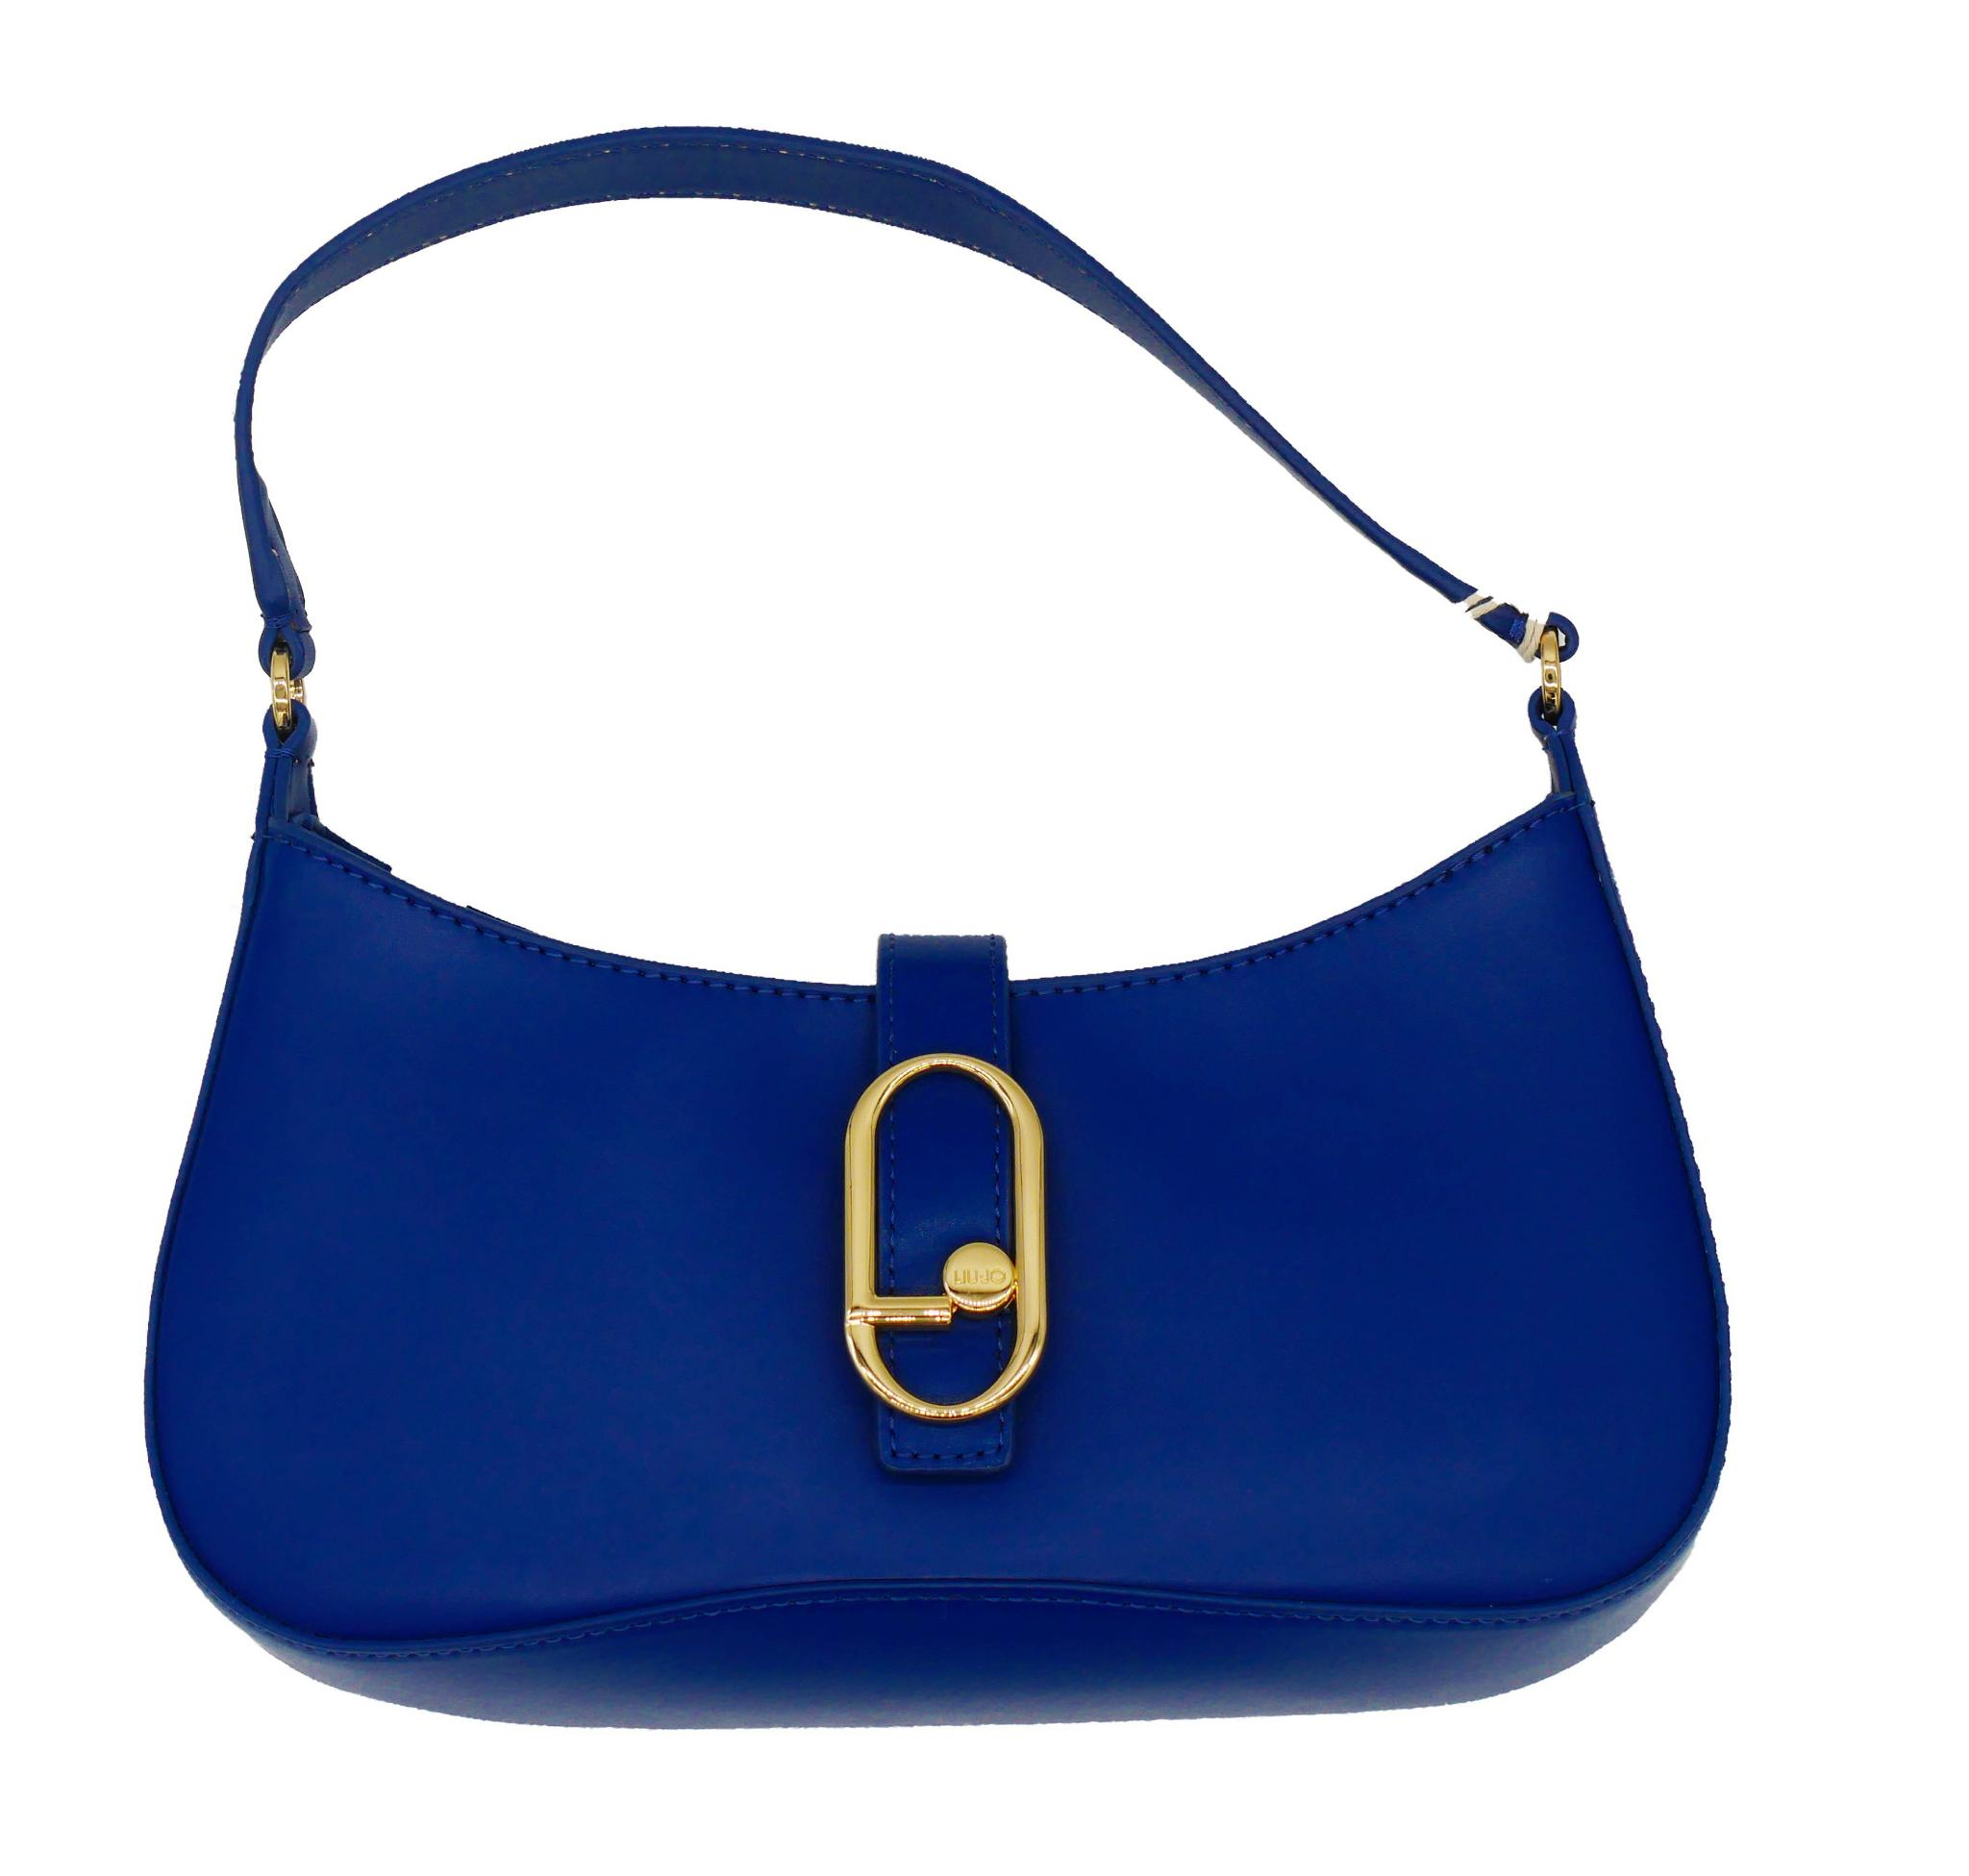LIU-JO: (839, 1053, 1050, 1421)
